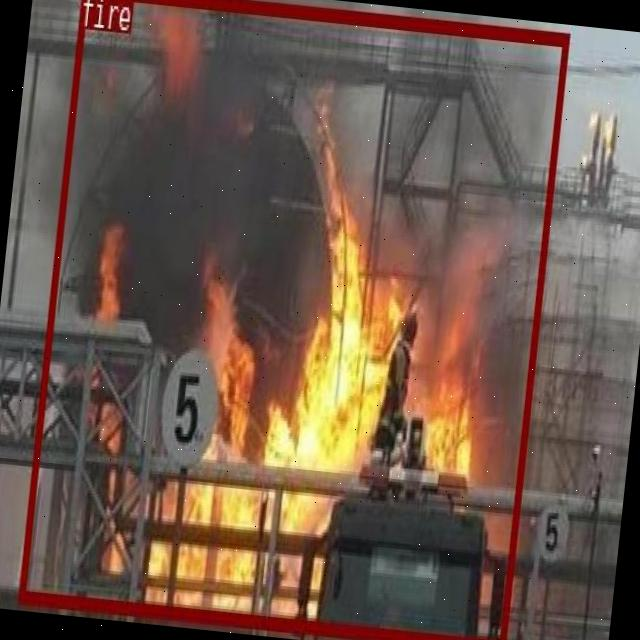fire: (17, 0, 569, 640)
